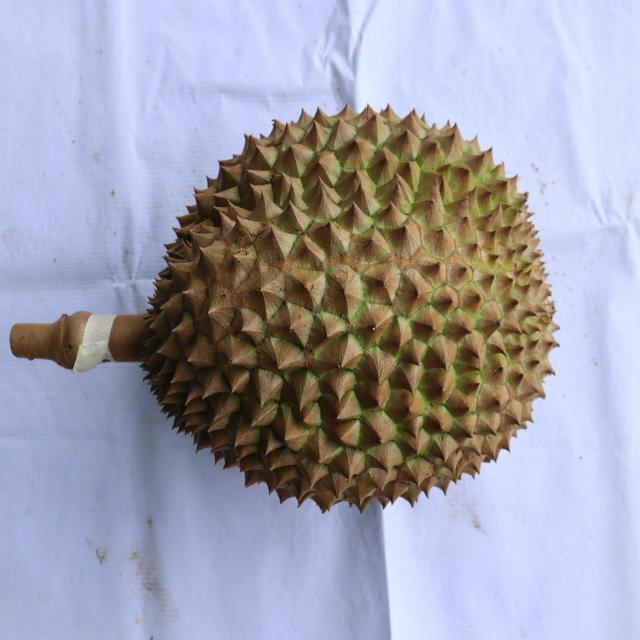mature: (139, 103, 563, 513)
